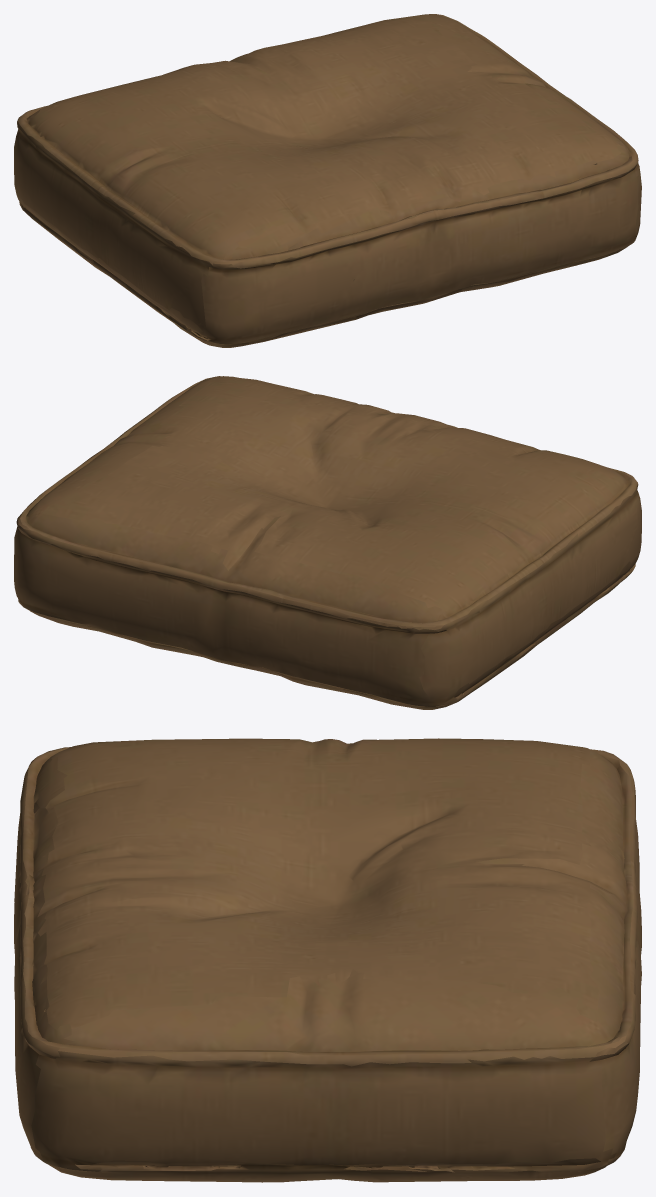
Rendered from PROP-010.glb.
3 views of the same model, one above another, from view 1: azimuth 30°, elevation 25°; view 2: azimuth 150°, elevation 25°; view 3: azimuth 270°, elevation 25° (orthographic). The views are drawn at different scales.
Visible parts, largest first — view 1: world; view 2: world; view 3: world.
Part boxes in pixels (left/top/right/bottom): world: left=14, top=14, right=641, bottom=347; world: left=14, top=376, right=641, bottom=709; world: left=14, top=738, right=641, bottom=1182.
Bounding box in the file's own units: 0.5998 × 0.1663 × 0.4983.
Materials: 1 (1 with a texture image).
